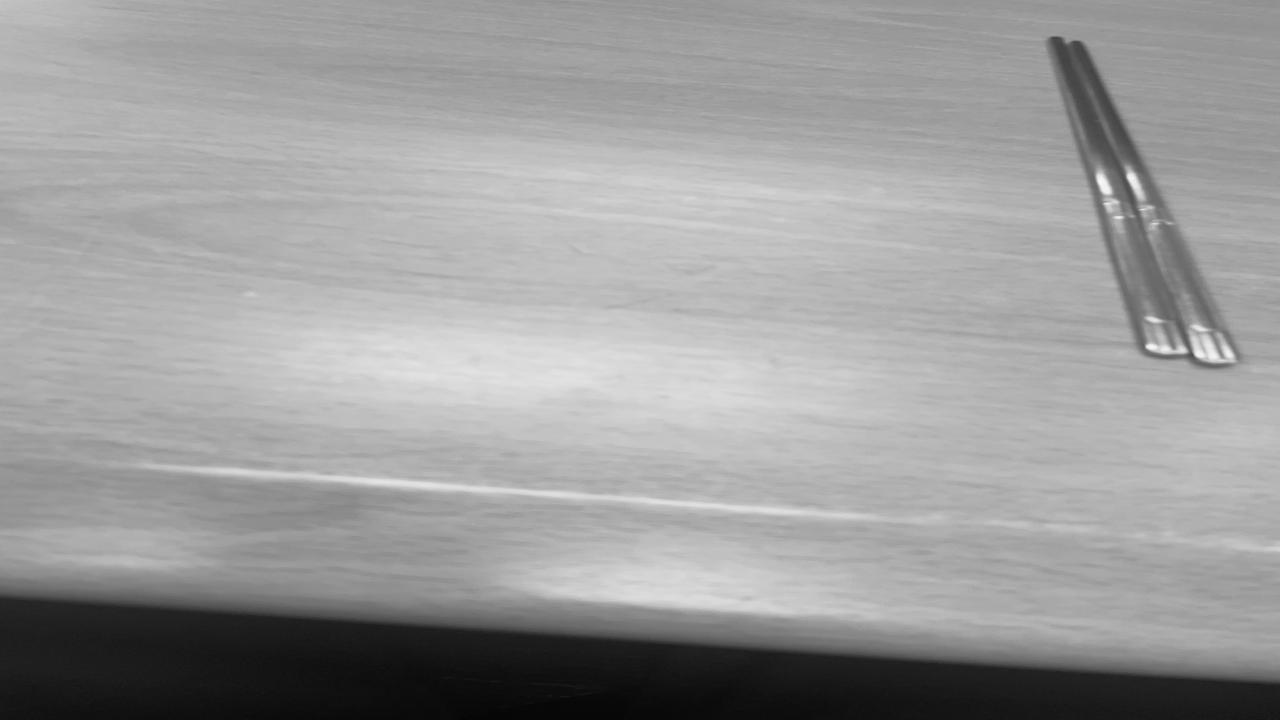chopstick: (1052, 38, 1242, 360)
